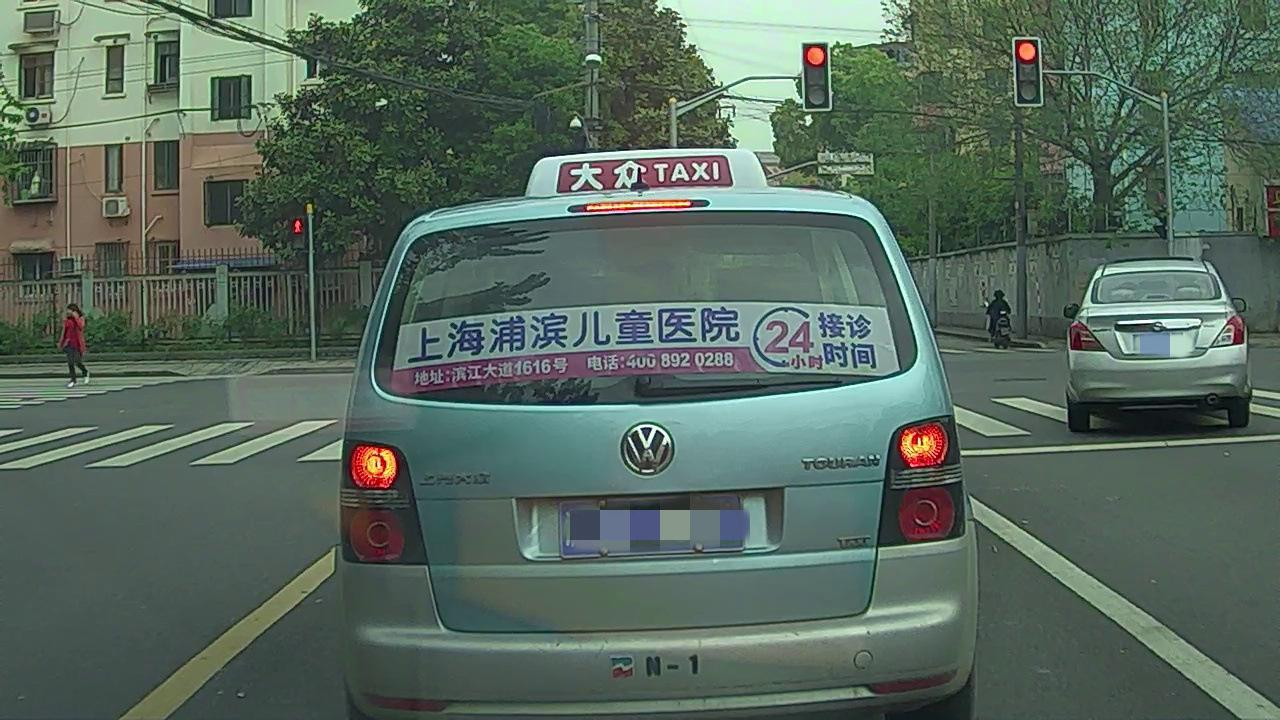traffic_light: (1015, 40, 1041, 104), (804, 42, 829, 108)
